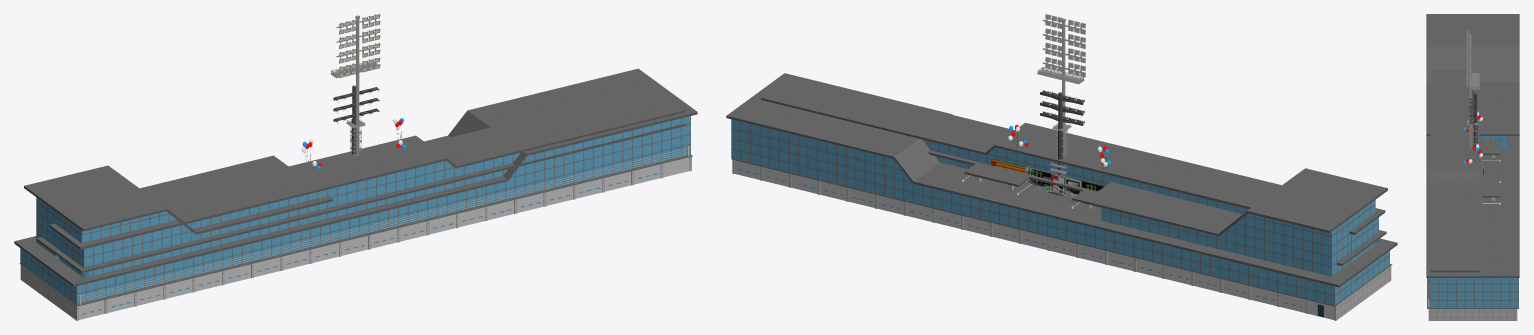
Rendered from trackprops.glb.
3 renders of one model, left to right at view 1: azimuth 30°, elevation 25°; view 2: azimuth 150°, elevation 25°; view 3: azimuth 270°, elevation 25°, orthographic. The views are drawn at different scales.
Parts seen in each view (by area): view 1: tp_pit_building_b, tp_pit_building_a, tp_stadium_light, tp_floodmast; view 2: tp_pit_building_a, tp_pit_building_b, tp_stadium_light, tp_floodmast; view 3: tp_pit_building_a, tp_pit_building_b, tp_stadium_light, tp_floodmast, tp_arch_balloons, tp_adtower_0.
Part boxes in pixels (x1,y1,x2,y2): tp_pit_building_b: (19, 87, 690, 320); tp_pit_building_a: (14, 68, 697, 320); tp_stadium_light: (330, 14, 380, 156); tp_floodmast: (333, 85, 379, 154); tp_pit_building_a: (726, 73, 1397, 320); tp_pit_building_b: (732, 75, 1392, 320); tp_stadium_light: (1037, 14, 1085, 156); tp_floodmast: (1040, 90, 1084, 175); tp_pit_building_a: (1426, 14, 1519, 320); tp_pit_building_b: (1427, 70, 1518, 308); tp_stadium_light: (1466, 30, 1479, 146); tp_floodmast: (1469, 89, 1477, 146); tp_arch_balloons: (1462, 110, 1482, 164); tp_adtower_0: (1467, 119, 1479, 158).
Bounding box in the file's own units: 128 × 41.79 × 21.07.
20 materials, 17 textured.
